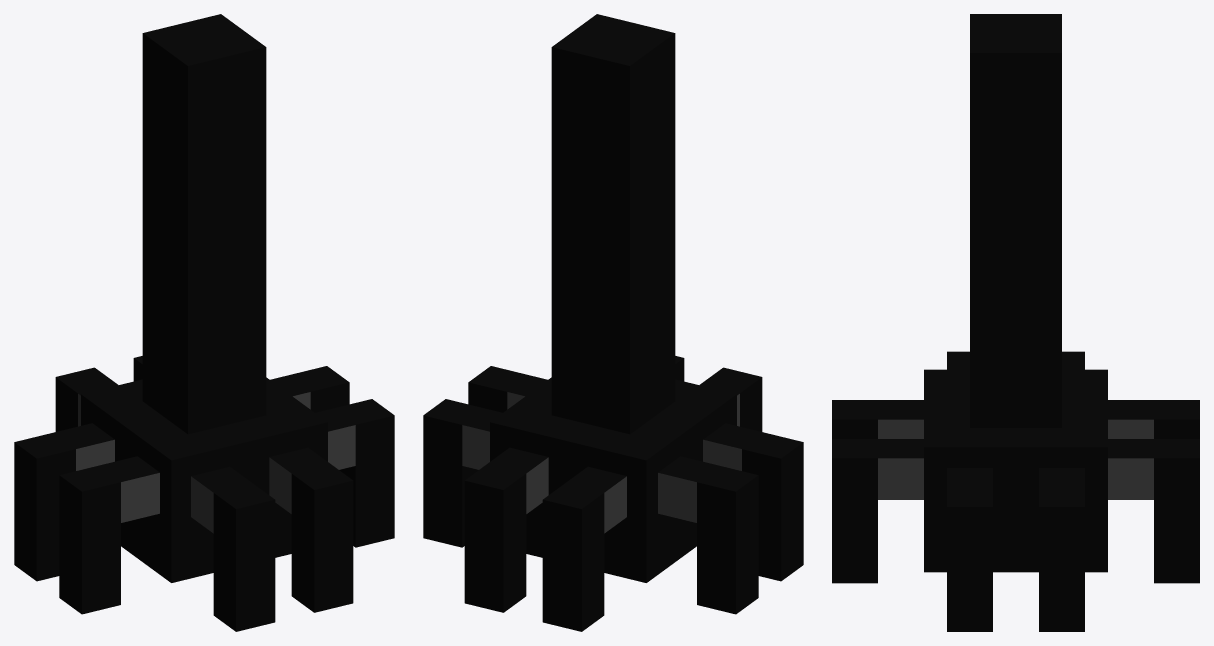
File: mirror_stand.obj
3 renders of one model, left to right at view 1: azimuth 30°, elevation 25°; view 2: azimuth 150°, elevation 25°; view 3: azimuth 270°, elevation 25°, orthographic.
Parts seen in each view (by area): view 1: model; view 2: model; view 3: model.
Boxes of the visible parts, left/top/right/bottom form: model: left=14, top=14, right=394, bottom=631; model: left=423, top=14, right=803, bottom=631; model: left=832, top=14, right=1199, bottom=631.
Bounding box in the file's own units: 0.5 × 0.7812 × 0.5.
